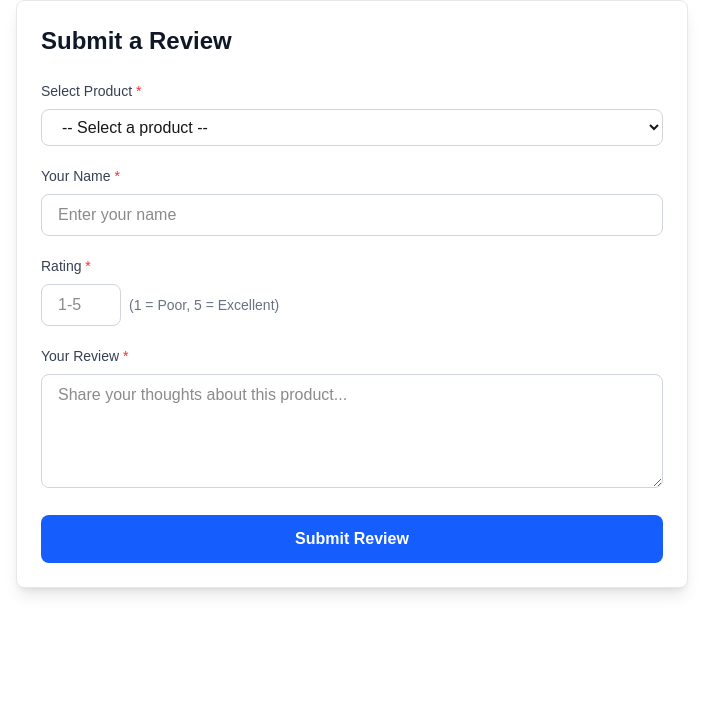
ProductReviewForm › displays validation errors when form is submitted empty
The image size is (705, 710).
expect the dropdown labelled "Select Product *" is shown: met, box [41,109,663,146]
Click the button "Submit Review".
click(352, 539)  # box [41,515,663,563]
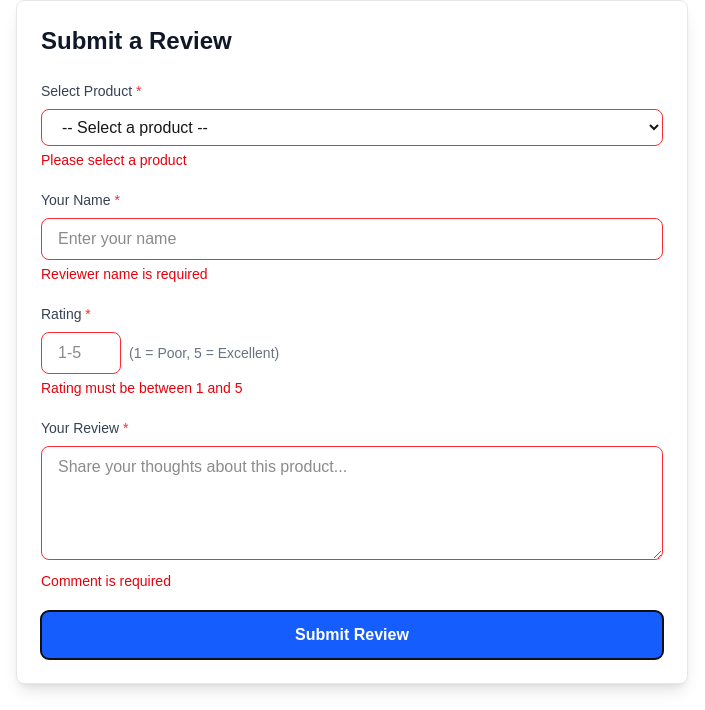
expect the text "Please select a product" is shown: met, box [41,152,186,168]
expect the text "Reviewer name is required" is shown: met, box [41,266,208,282]
expect the text "Rating must be between 1 and 5" is shown: met, box [41,380,243,396]
